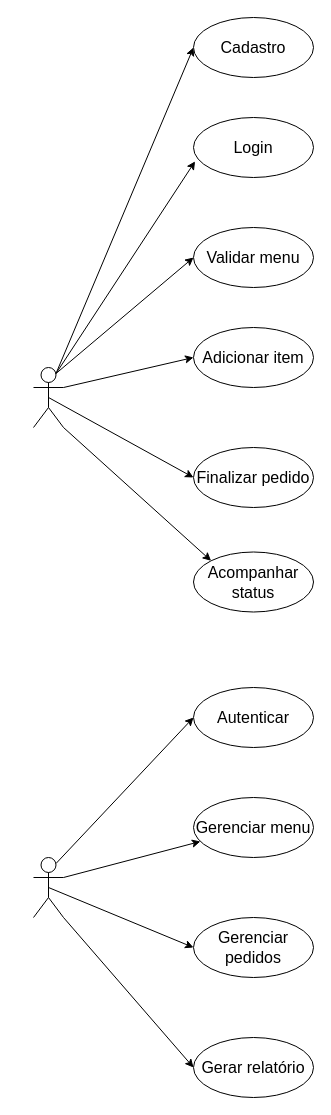
The diagram is 331 pixels wide and 1115 high, and some of its shapes have lost their labels. The centre of each missing label's shape, as x and y in pixels:
Cliente: (48,397)
Funcionário: (48,887)
